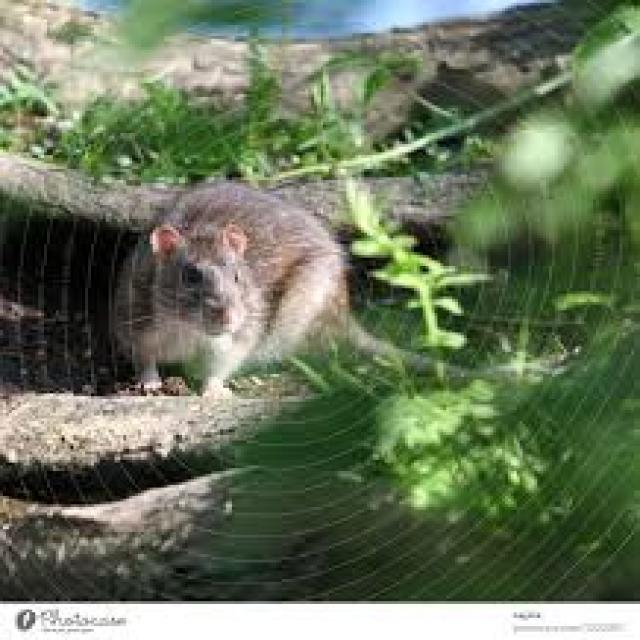rat: (106, 177, 564, 402)
